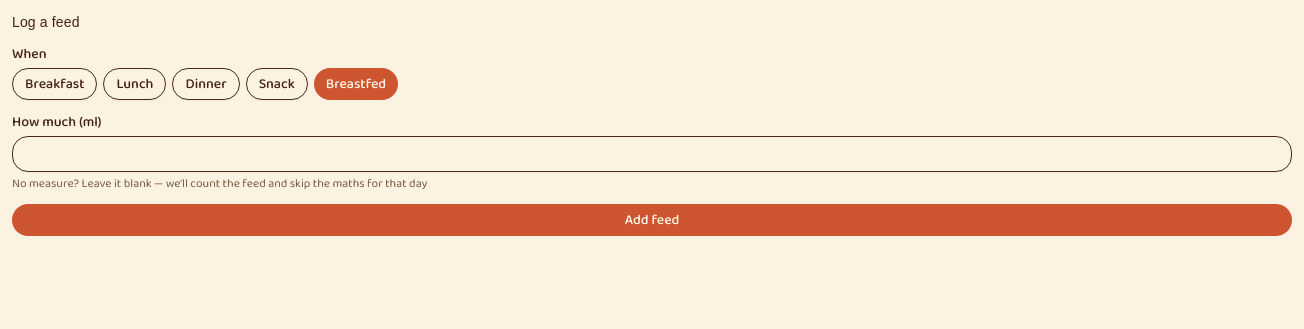
Test: LogFeedForm › asks for a food when none is picked, and for an amount when it is not breast milk
The image size is (1304, 329).
Click the radio button labelled "Dinner" at (206,84), box [172,68,240,100]
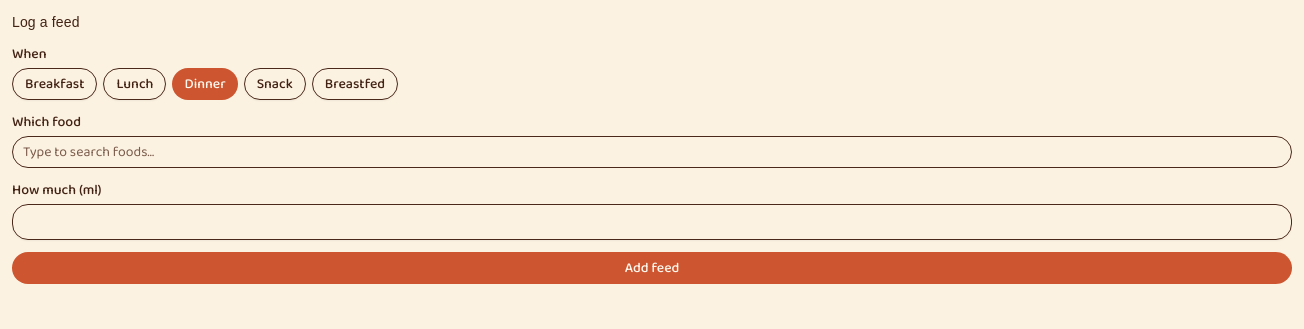
Click the button "Add feed" at (652,268), box [12,252,1292,284]
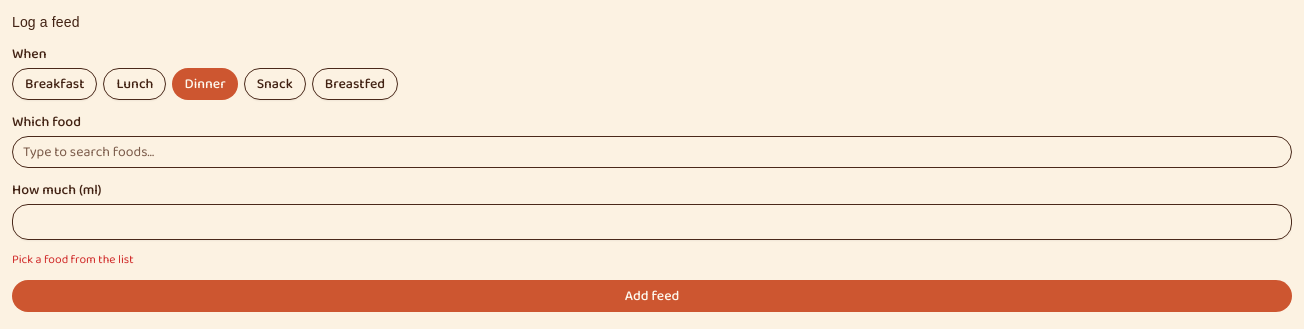
Now the message reads "Pick a food from the list", box [12,250,134,269]
Type "peas" into the dropdown with placeholder "Type to search foods…" at (652,152), box [12,136,1292,168]
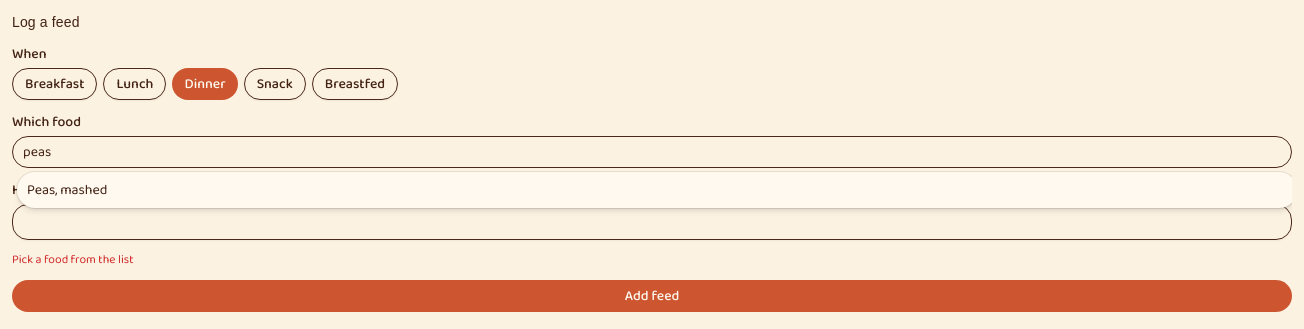
Click the option "Peas, mashed" at (67,190), box [27,179,108,201]
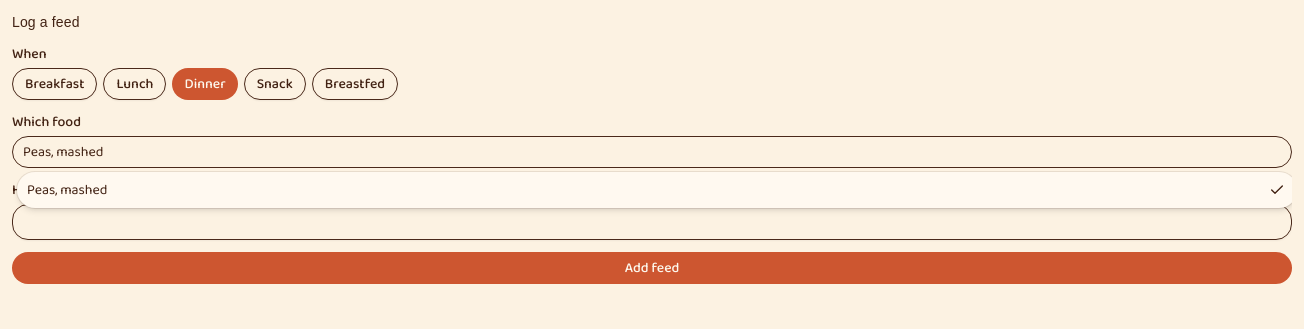
Click the button "Add feed" at (652,268), box [12,252,1292,284]
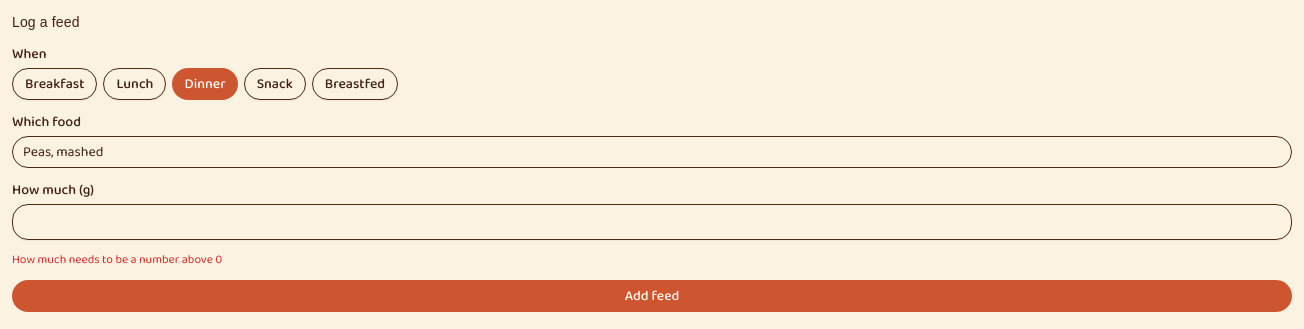
Now the message reads "How much needs to be a number above 0", box [12,250,222,269]
